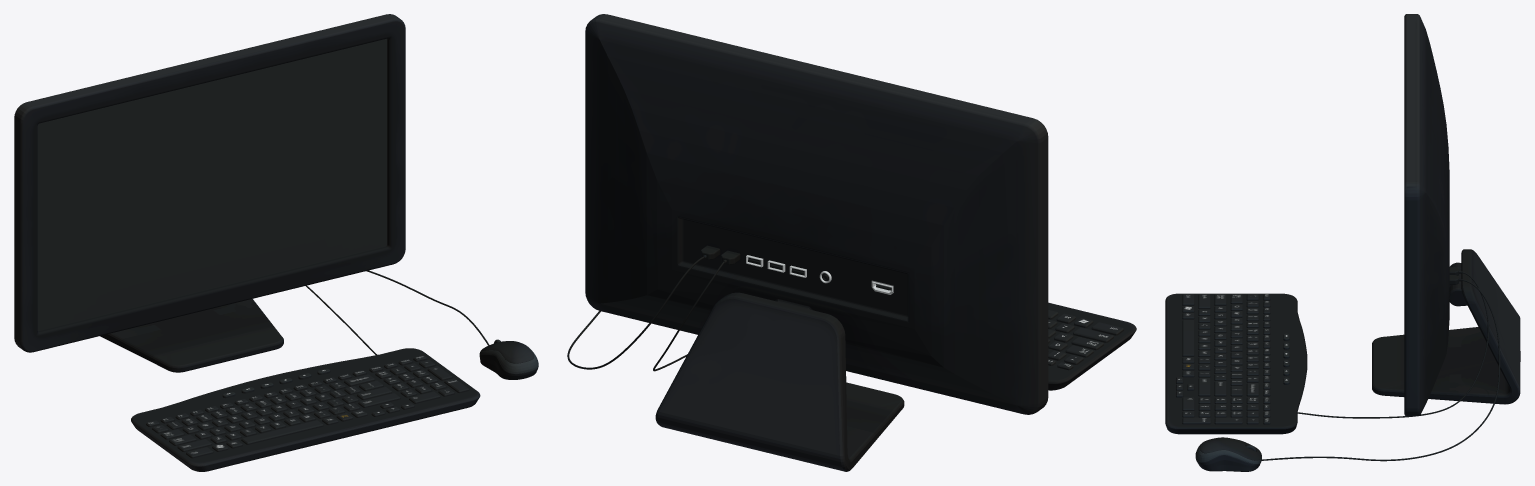
File: Office Computer.glb
3 renders of one model, left to right at view 1: azimuth 30°, elevation 25°; view 2: azimuth 150°, elevation 25°; view 3: azimuth 270°, elevation 25°, orthographic. The views are drawn at different scales.
Bounding box in the file's own units: 0.0946 × 0.0624 × 0.0741.
1 material, 1 textured.
